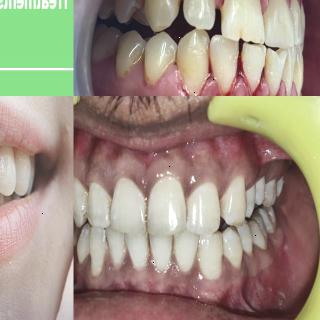Gum Swelling: (86, 242, 272, 291), (89, 149, 253, 204)
cavities: (264, 207, 276, 231)
maligned: (114, 0, 150, 28)
stains: (217, 177, 245, 227), (138, 56, 164, 96), (118, 49, 142, 81), (141, 194, 153, 231), (166, 229, 178, 264), (104, 193, 118, 221), (143, 233, 157, 259), (178, 198, 191, 224), (102, 234, 112, 258)
